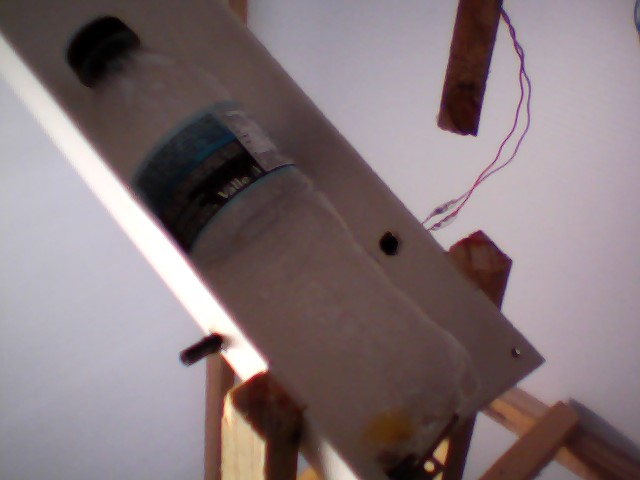plastico: (59, 13, 489, 476)
